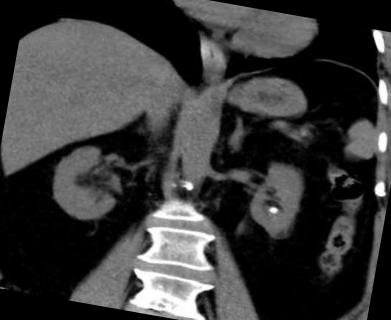Tas_Var: (262, 200, 282, 218)
